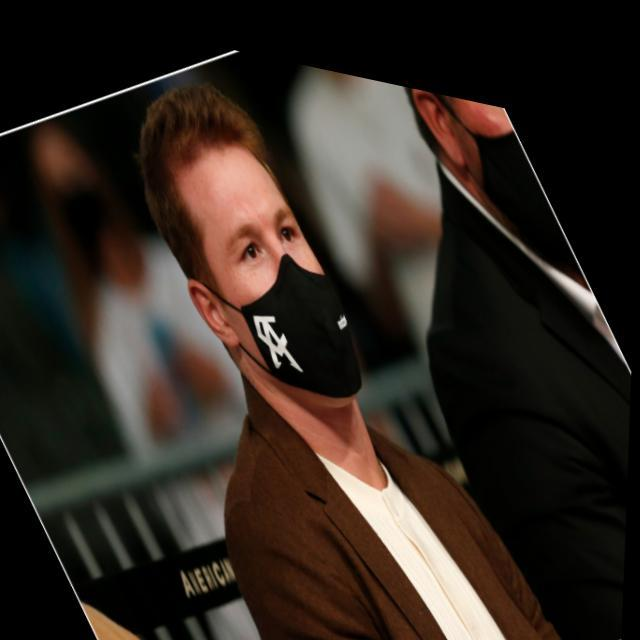Nonhelmet: (133, 79, 369, 403)
